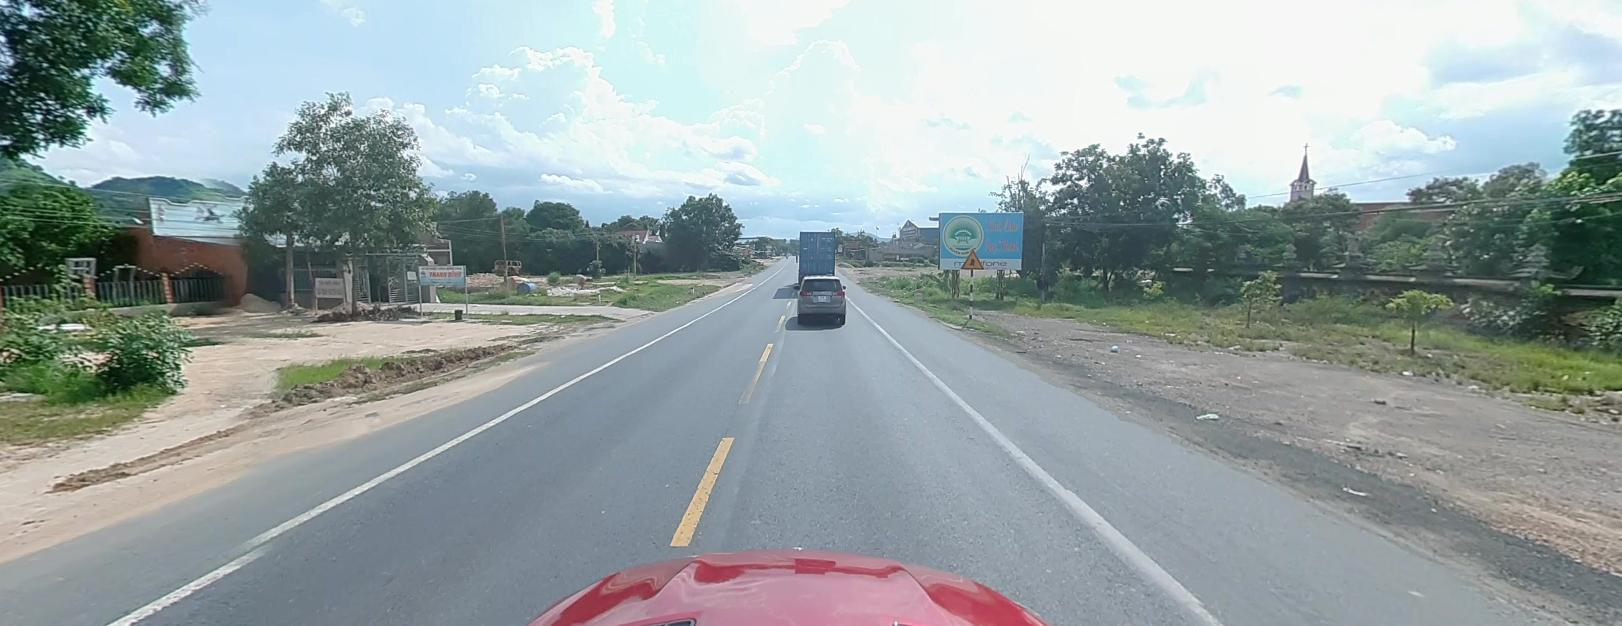Nguy hiem: (960, 249, 983, 268), (960, 248, 983, 267), (961, 248, 983, 267)
